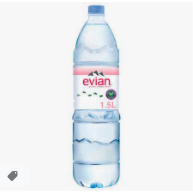Bottle: (75, 5, 120, 188)
